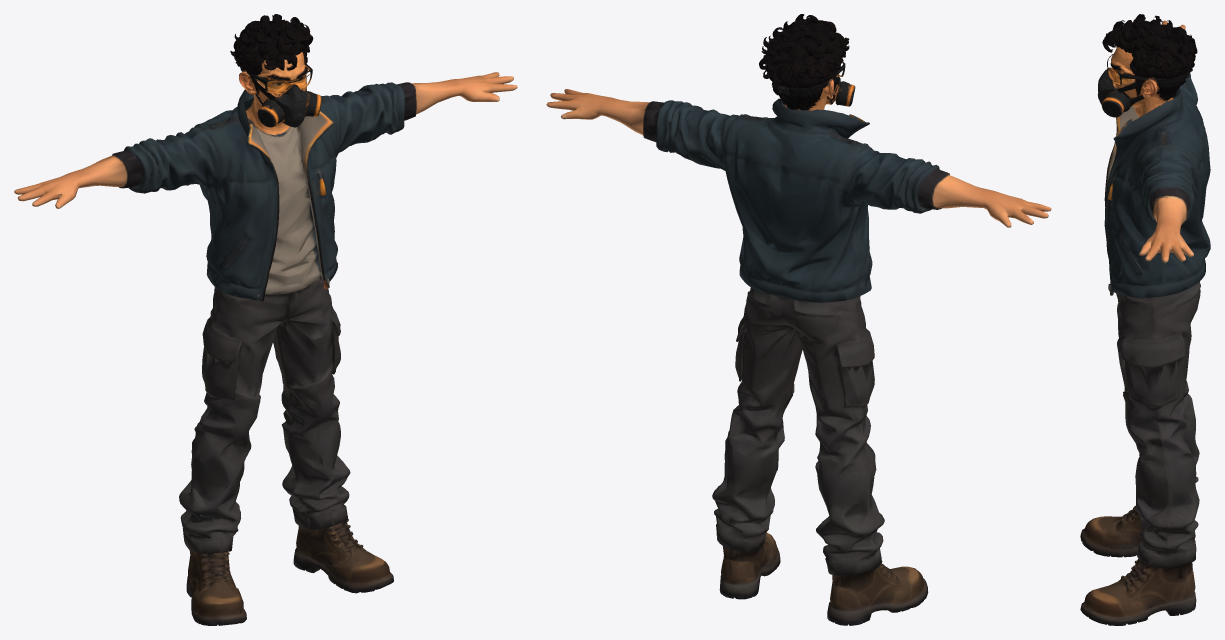
The model's file is prepared.glb.
3 renders of one model, left to right at view 1: azimuth 30°, elevation 25°; view 2: azimuth 150°, elevation 25°; view 3: azimuth 270°, elevation 25°, orthographic.
Parts seen in each view (by area): view 1: operator; view 2: operator; view 3: operator.
Part boxes in pixels (x1=…): operator: x1=14, y1=14, x2=517, y2=625; operator: x1=546, y1=14, x2=1051, y2=625; operator: x1=1080, y1=14, x2=1210, y2=625.
Bounding box in the file's own units: 1.6 × 1.75 × 0.3666.
1 material, 1 textured.
